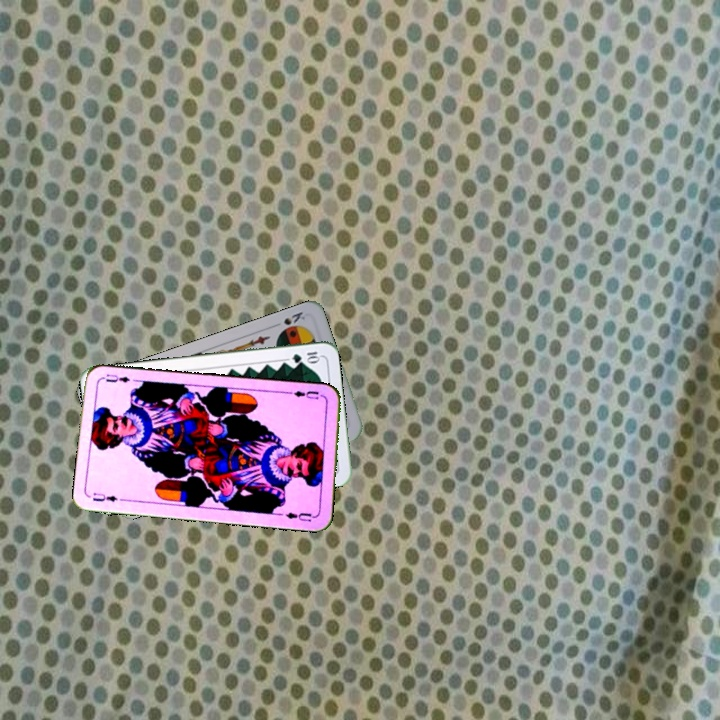EU: (286, 387, 327, 402), (89, 488, 120, 504)
G10: (288, 347, 322, 365)
SK: (269, 307, 308, 330)
